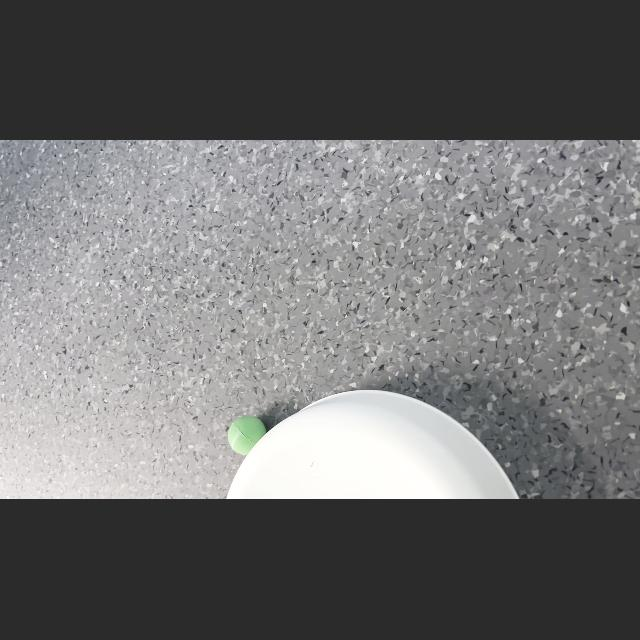objects: (224, 412, 266, 458)
